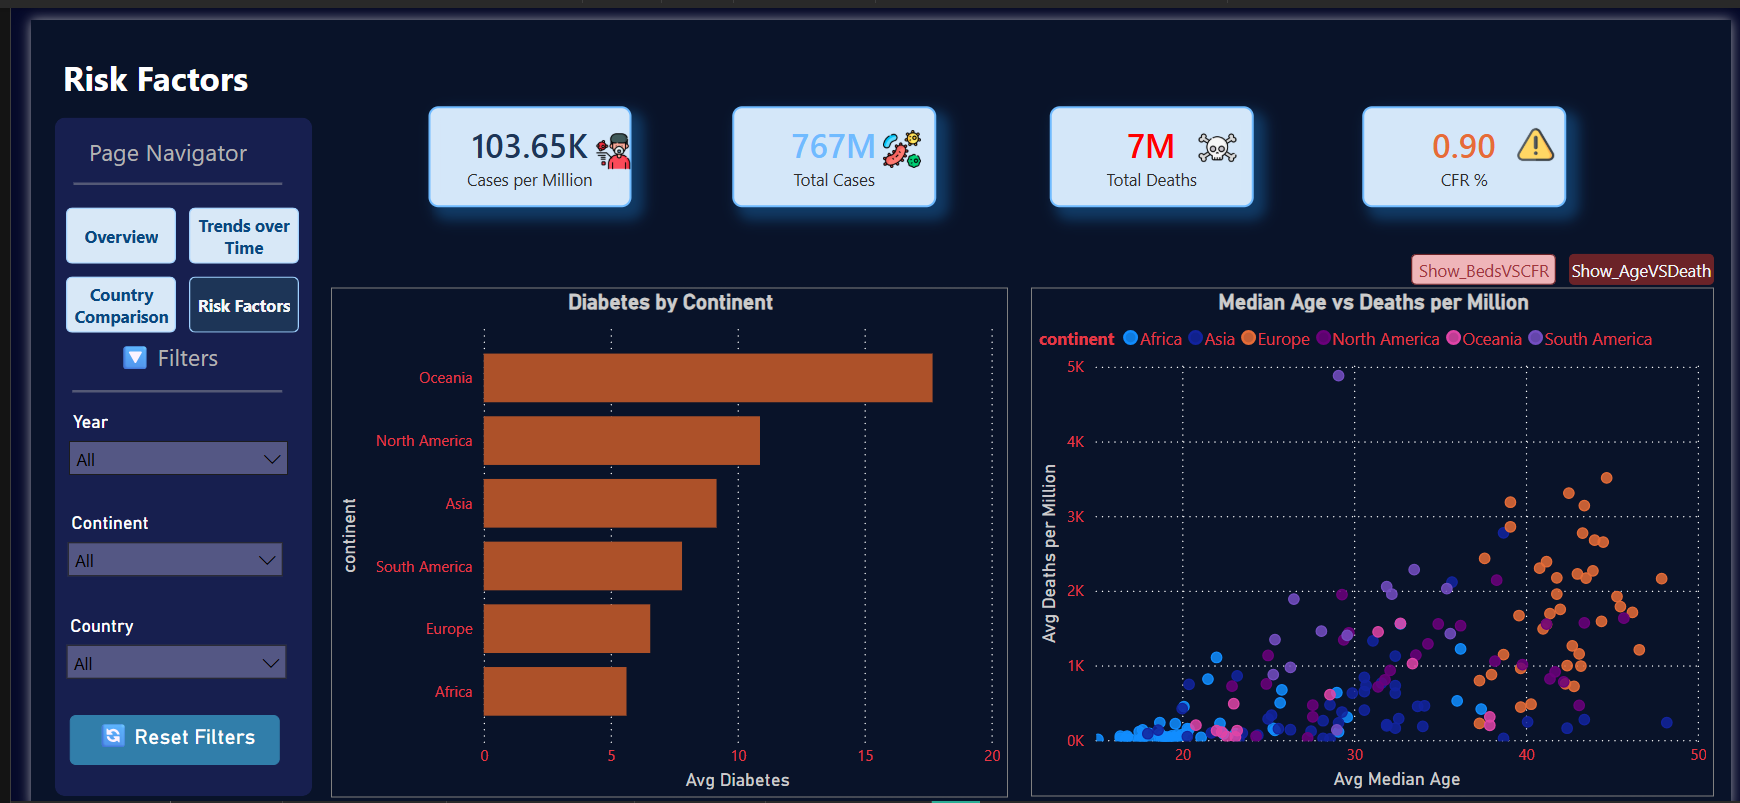

What the dashboard file says about the page in this screenshot:
{"tool":"powerbi","page":{"name":"Risk Factors","canvas":[1360,610],"ordinal":3},"visuals":[{"type":"scatterChart","title":"Median Age vs Deaths per Million","fields":{"X":["_Measures.Avg Median Age"],"Y":["_Measures.Avg Deaths per Million"],"Category":["Covid_Global.location"],"Series":["Covid_Global.continent"]},"box":[800,194,546,407],"z":2000},{"type":"barChart","title":"Diabetes by Continent","fields":{"Category":["Covid_Global.continent"],"Y":["_Measures.Avg Diabetes"]},"box":[240,194,541,408],"z":4000},{"type":"bookmarkNavigator","box":[1104,167,242,25],"z":6000},{"type":"shape","box":[19,58,206,543],"z":10000},{"type":"cardVisual","fields":{"Data":["_Measures.Total Cases"]},"box":[561.2,48.8,162.5,81.2],"z":11000},{"type":"cardVisual","fields":{"Data":["_Measures.CFR %"]},"box":[1065,48.8,162.5,81.2],"z":12000},{"type":"cardVisual","fields":{"Data":["_Measures.Total Deaths"]},"box":[815,48.8,162.5,81.2],"z":13000},{"type":"cardVisual","fields":{"Data":["_Measures.Cases per Million"]},"box":[317.5,48.8,162.5,81.2],"z":14000},{"type":"image","box":[680,67.5,32.5,30],"z":15000},{"type":"image","box":[1188.8,57.5,28.8,43.8],"z":16000},{"type":"image","box":[933.8,61.2,30,41.2],"z":17000},{"type":"image","box":[451.2,68.8,28.8,32.5],"z":18000},{"type":"slicer","fields":{"Values":["Covid_Global.date.Variation.Date Hierarchy.Year"]},"box":[20,287.5,195,63.8],"z":19000},{"type":"slicer","fields":{"Values":["Covid_Global.location"]},"box":[17.5,451.2,196.2,61.2],"z":20000},{"type":"slicer","fields":{"Values":["Covid_Global.continent"]},"box":[18.8,368.8,192.5,62.5],"z":21000},{"type":"pageNavigator","box":[28,130,187,100],"z":22000},{"type":"textbox","box":[20,3,321,55],"z":24000},{"type":"textbox","box":[65,232,99,35],"z":25000},{"type":"shape","box":[23.8,77.5,183.8,46.2],"z":26000},{"type":"shape","box":[33.8,82.5,167.5,56.2],"z":27000},{"type":"shape","box":[32.5,248.8,168.8,56.2],"z":28000},{"type":"actionButton","title":"🔄 Reset Filters","box":[31.2,536.2,167.5,40],"z":29000},{"type":"textbox","box":[41.2,67.5,158.8,37.5],"z":30000}]}

Visuals, with their boxes in screenshot pixels (x1, y1, x2, y2), scaled from the page's 1360x610 canvas onto the 1740x803 screenshot:
"Median Age vs Deaths per Million" scatterChart: (left=1024, top=255, right=1722, bottom=791)
"Diabetes by Continent" barChart: (left=307, top=255, right=999, bottom=792)
bookmarkNavigator: (left=1412, top=220, right=1722, bottom=253)
shape: (left=24, top=76, right=288, bottom=791)
cardVisual - _Measures.Total Cases: (left=718, top=64, right=926, bottom=171)
cardVisual - _Measures.CFR %: (left=1363, top=64, right=1570, bottom=171)
cardVisual - _Measures.Total Deaths: (left=1043, top=64, right=1251, bottom=171)
cardVisual - _Measures.Cases per Million: (left=406, top=64, right=614, bottom=171)
image: (left=870, top=89, right=912, bottom=128)
image: (left=1521, top=76, right=1558, bottom=133)
image: (left=1195, top=81, right=1233, bottom=135)
image: (left=577, top=91, right=614, bottom=133)
slicer - Covid_Global.date.Variation.Date Hierarchy.Year: (left=26, top=378, right=275, bottom=462)
slicer - Covid_Global.location: (left=22, top=594, right=273, bottom=675)
slicer - Covid_Global.continent: (left=24, top=485, right=270, bottom=568)
pageNavigator: (left=36, top=171, right=275, bottom=303)
textbox: (left=26, top=4, right=436, bottom=76)
textbox: (left=83, top=305, right=210, bottom=351)
shape: (left=30, top=102, right=266, bottom=163)
shape: (left=43, top=109, right=258, bottom=183)
shape: (left=42, top=328, right=258, bottom=402)
"🔄 Reset Filters" actionButton: (left=40, top=706, right=254, bottom=759)
textbox: (left=53, top=89, right=256, bottom=138)
